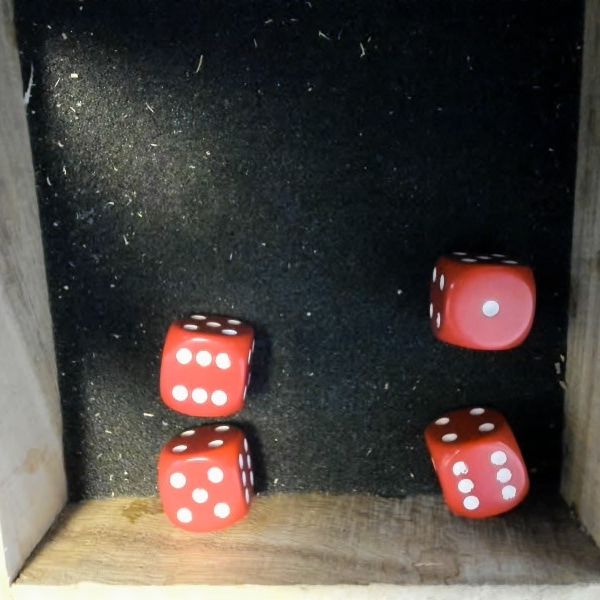red_die_pip1: (427, 245, 538, 355)
red_die_pip5: (151, 424, 259, 537)
red_die_pip6: (417, 391, 539, 535), (149, 299, 262, 426)
